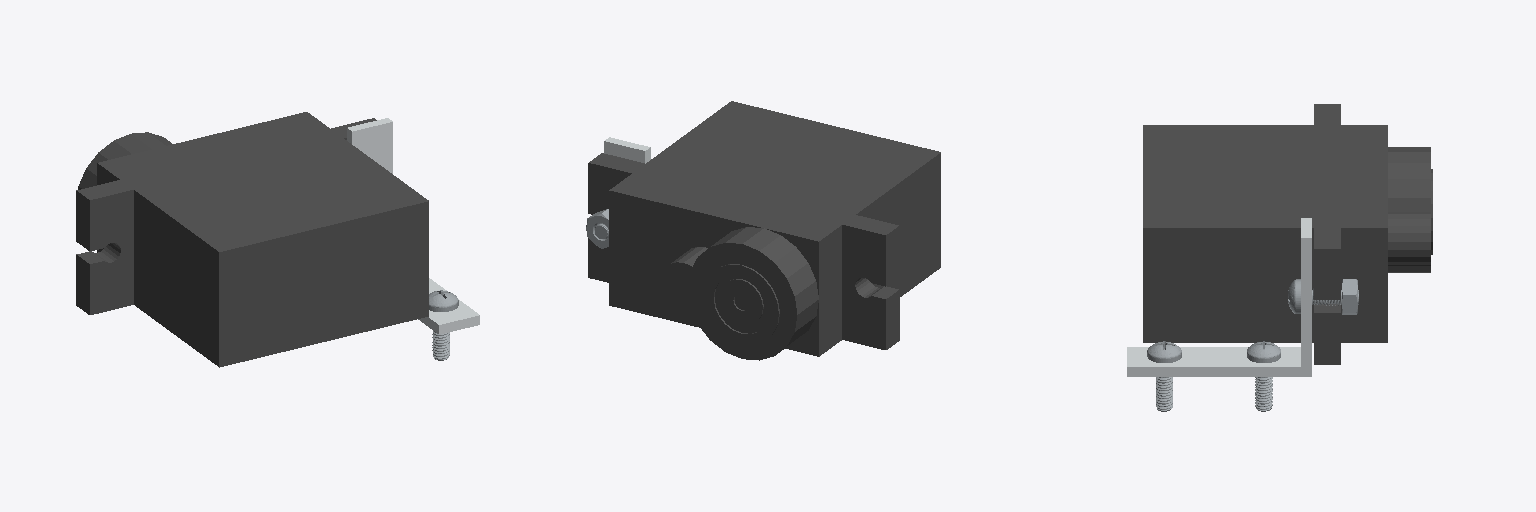
The model's file is tinker.obj.
3 views of the same model, side by side, from view 1: azimuth 30°, elevation 25°; view 2: azimuth 150°, elevation 25°; view 3: azimuth 270°, elevation 25° (orthographic).
Visible parts, largest first — view 1: obj_0; view 2: obj_0; view 3: obj_0.
Boxes of the visible parts, x1,y1,x2,y2 form: obj_0: [76, 112, 479, 367]; obj_0: [586, 101, 940, 360]; obj_0: [1127, 104, 1432, 411].
Size of the model in its own units: 31.9 by 18.53 by 28.38.